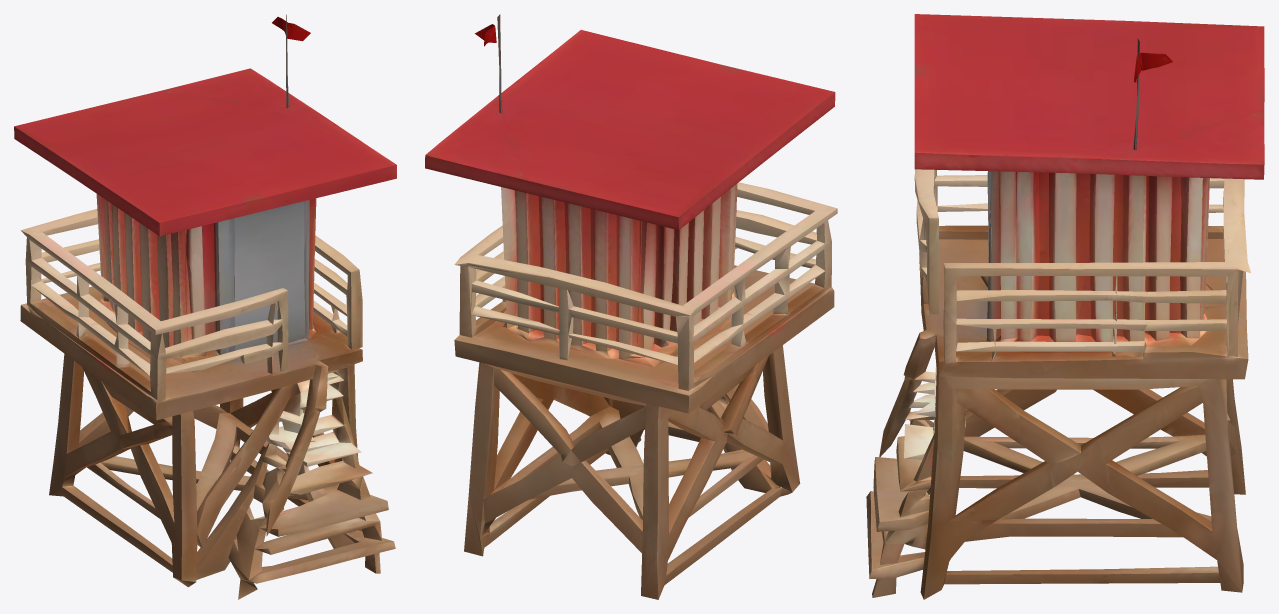
The model's file is lifeguardTower.glb.
3 renders of one model, left to right at view 1: azimuth 30°, elevation 25°; view 2: azimuth 150°, elevation 25°; view 3: azimuth 270°, elevation 25°, orthographic. The views are drawn at different scales.
Parts seen in each view (by area): view 1: model; view 2: model; view 3: model.
Boxes of the visible parts, x1,y1,x2,y2 form: model: (14, 14, 396, 599); model: (425, 14, 837, 599); model: (866, 14, 1264, 599).
Bounding box in the file's own units: 1.01 × 1.86 × 1.18.
Materials: 1 (1 with a texture image).
